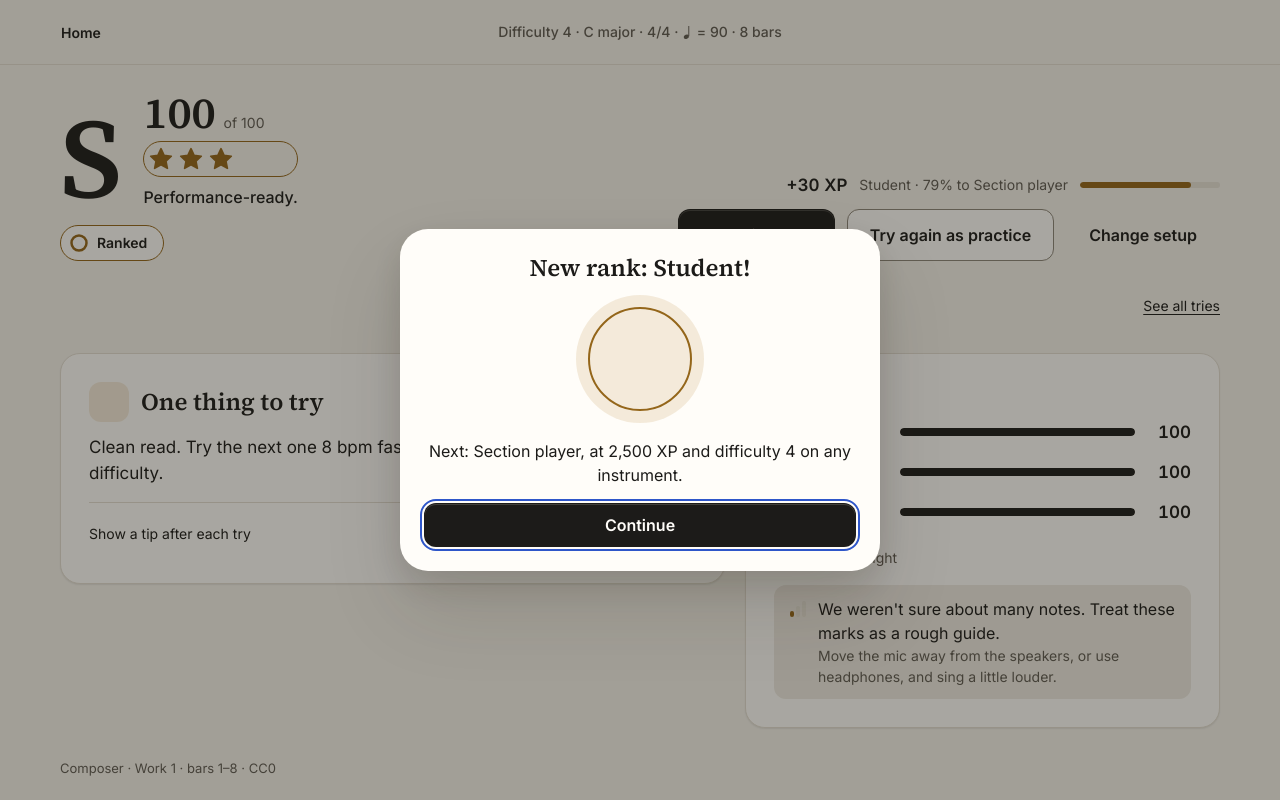
Test: ResultsScreen › rank-up: the card shows after the panel settles, once per rank, and never with the install coach
The width and height of the screenshot is (1280, 800).
Expected: the element with test id "rankup-card" shows "Next: Section player, at 2,500 XP and difficulty 4 on any instrument.", [429,441,851,485]
Click the button "Continue". click: click(640, 525)
box: [424,503,856,547]
Wait 1000 ms
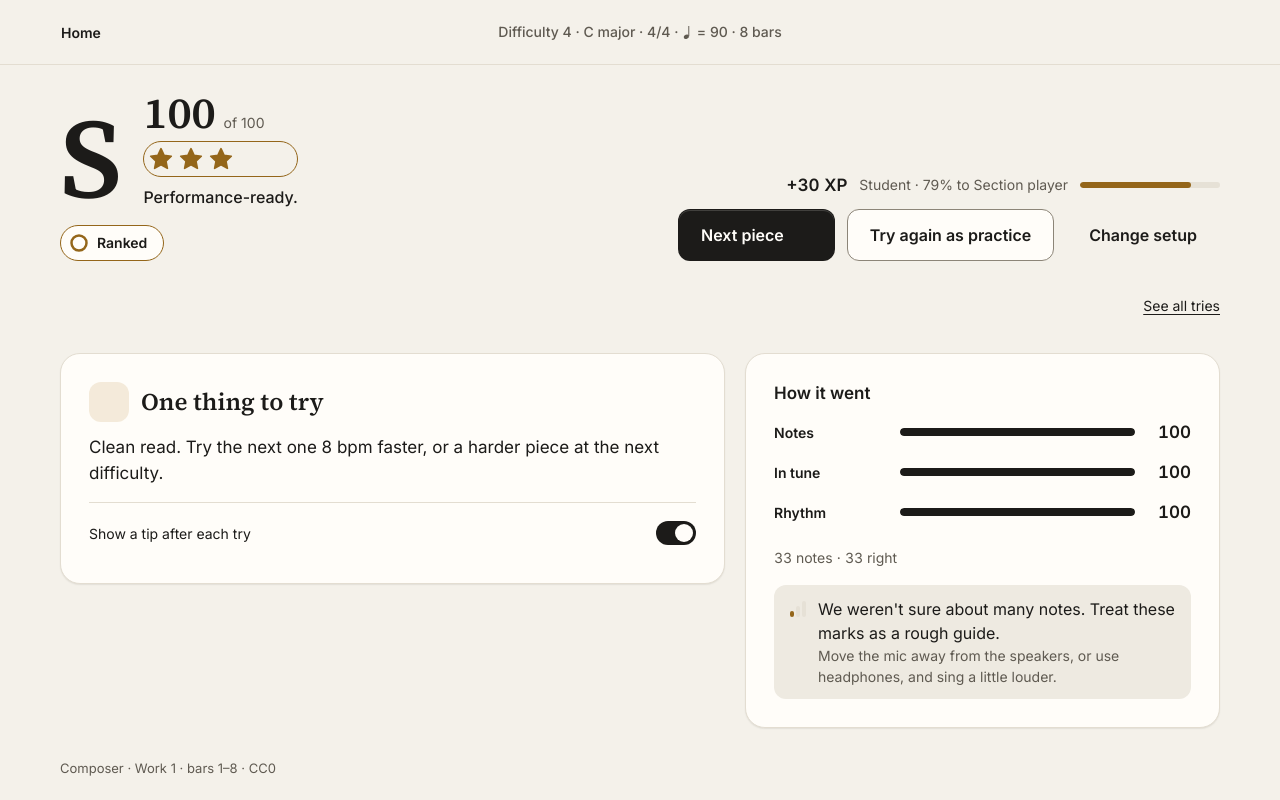
Expected: the element with test id "rankup-card" is gone
